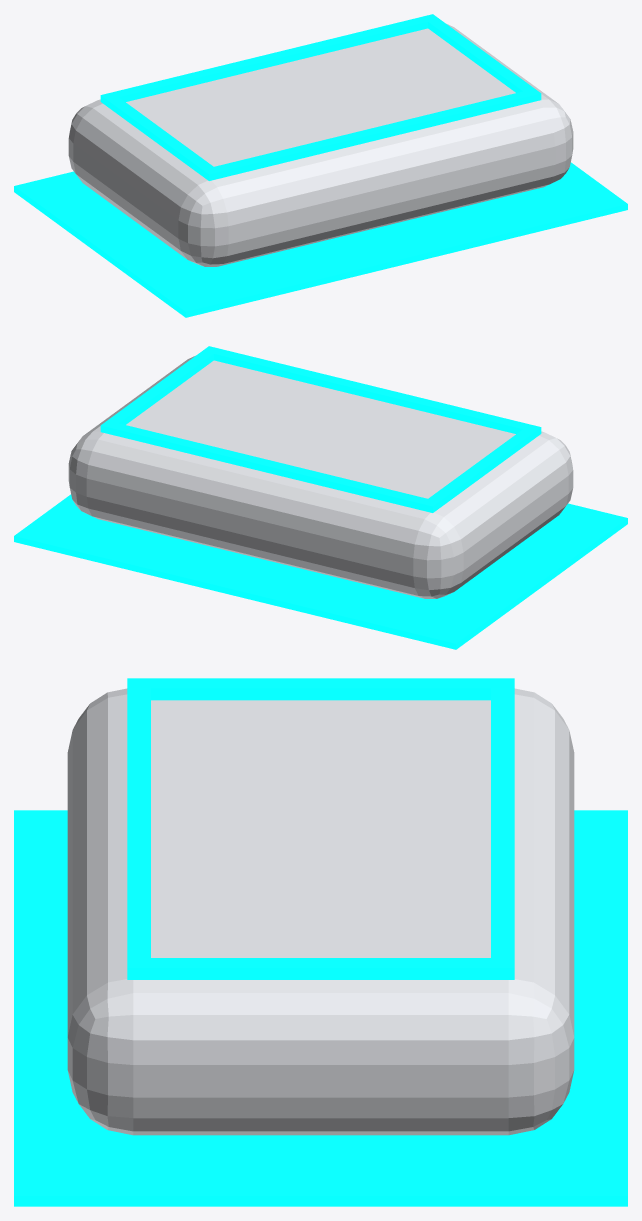
The model's file is chip.glb.
3 views of the same model, one above another, from view 1: azimuth 30°, elevation 25°; view 2: azimuth 150°, elevation 25°; view 3: azimuth 270°, elevation 25° (orthographic). The views are drawn at different scales.
Parts seen in each view (by area): view 1: Chip, ChipUnderGlow, Rim_B, Rim_T, Rim_L, Rim_R; view 2: Chip, ChipUnderGlow, Rim_T, Rim_B, Rim_L, Rim_R; view 3: Chip, ChipUnderGlow, Rim_R, Rim_L, Rim_B, Rim_T.
Part boxes in pixels (left/top/right/bottom): Chip: left=68, top=24, right=573, bottom=266; ChipUnderGlow: left=14, top=162, right=627, bottom=317; Rim_B: left=202, top=88, right=541, bottom=180; Rim_T: left=100, top=14, right=438, bottom=106; Rim_L: left=101, top=93, right=219, bottom=180; Rim_R: left=422, top=14, right=534, bottom=92; Chip: left=68, top=356, right=573, bottom=598; ChipUnderGlow: left=14, top=494, right=627, bottom=649; Rim_T: left=100, top=420, right=439, bottom=512; Rim_B: left=203, top=346, right=540, bottom=438; Rim_L: left=421, top=425, right=541, bottom=512; Rim_R: left=107, top=349, right=216, bottom=424; Chip: left=67, top=688, right=574, bottom=1135; ChipUnderGlow: left=14, top=810, right=627, bottom=1206; Rim_R: left=127, top=958, right=514, bottom=979; Rim_L: left=127, top=678, right=514, bottom=700; Rim_B: left=127, top=678, right=150, bottom=979; Rim_T: left=491, top=678, right=514, bottom=979.
Size of the model in its own units: 1.53 by 0.353 by 1.03.
